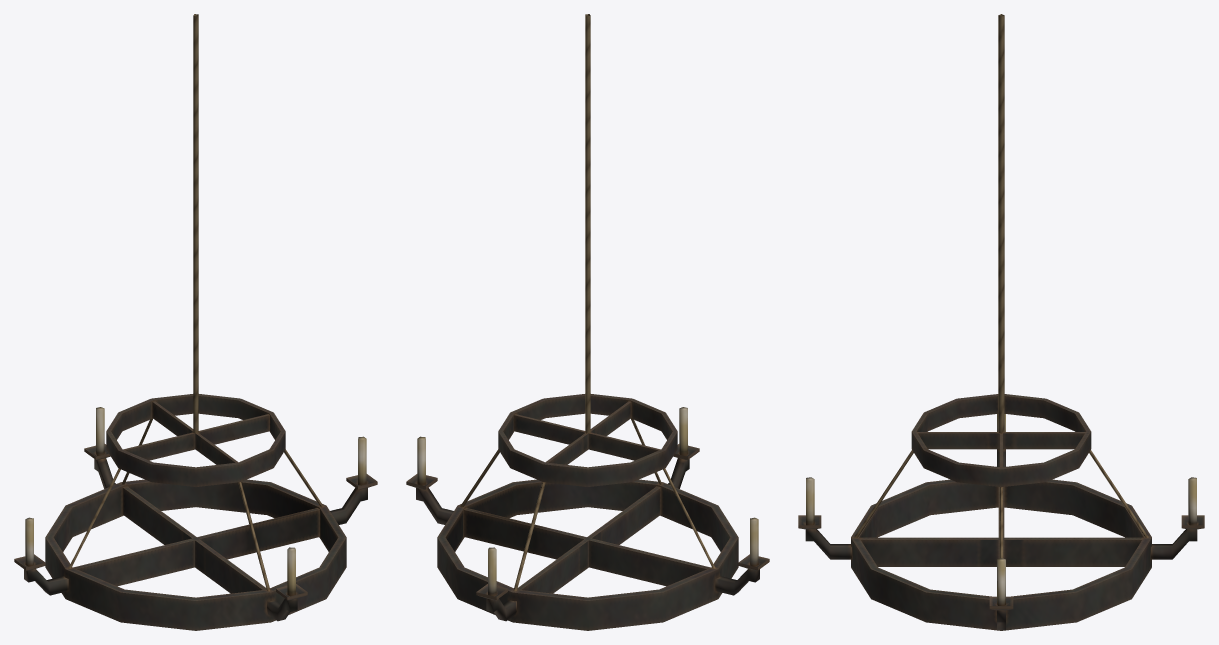
The model's file is chandelier_01.glb.
3 renders of one model, left to right at view 1: azimuth 30°, elevation 25°; view 2: azimuth 150°, elevation 25°; view 3: azimuth 270°, elevation 25°, orthographic.
Visible parts, largest first — view 1: chandelier_01; view 2: chandelier_01; view 3: chandelier_01.
Part boxes in pixels (box(x1,y1,x2,y2)): chandelier_01: box(14, 14, 377, 630); chandelier_01: box(406, 14, 769, 630); chandelier_01: box(798, 14, 1204, 630).
Bounding box in the file's own units: 6 × 9 × 6.
1 material, 1 textured.
